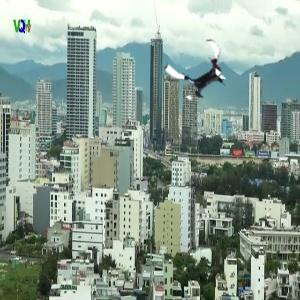drone: (169, 38, 235, 104)
